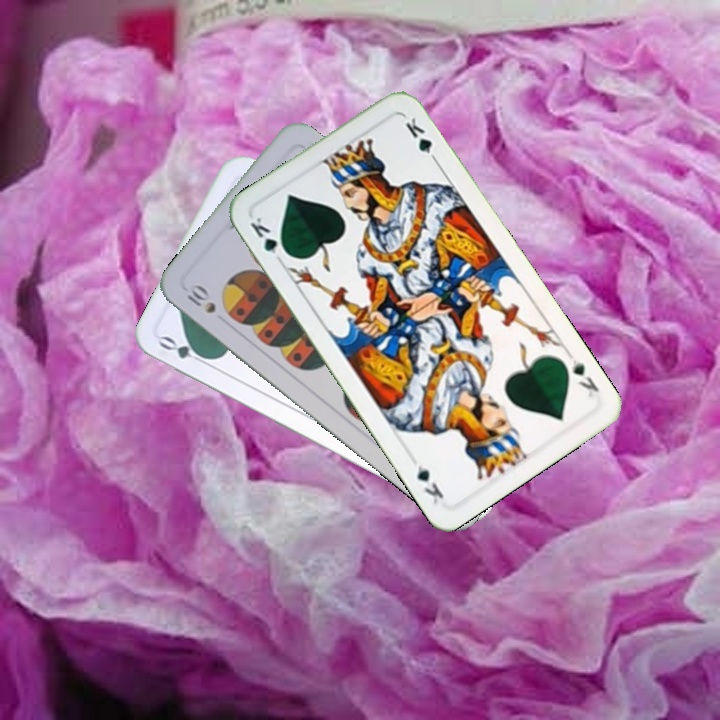GK: (246, 213, 292, 260), (563, 350, 602, 402)
GO: (155, 331, 213, 368)
S10: (182, 282, 219, 317)
